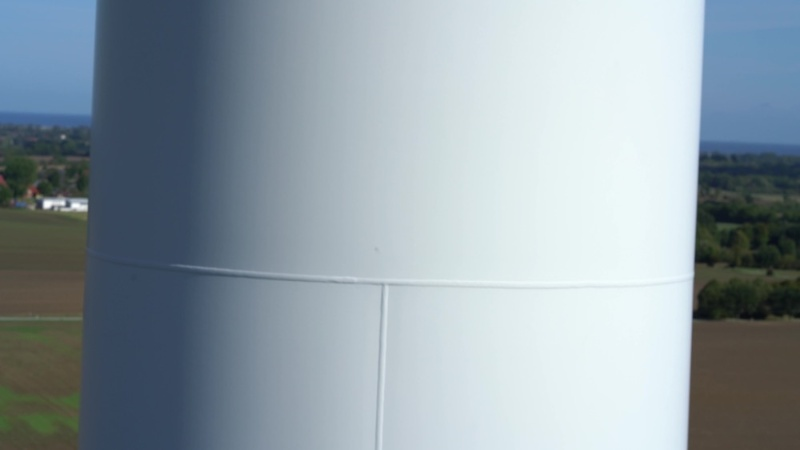weldseam: (77, 242, 695, 299), (368, 273, 391, 450)
